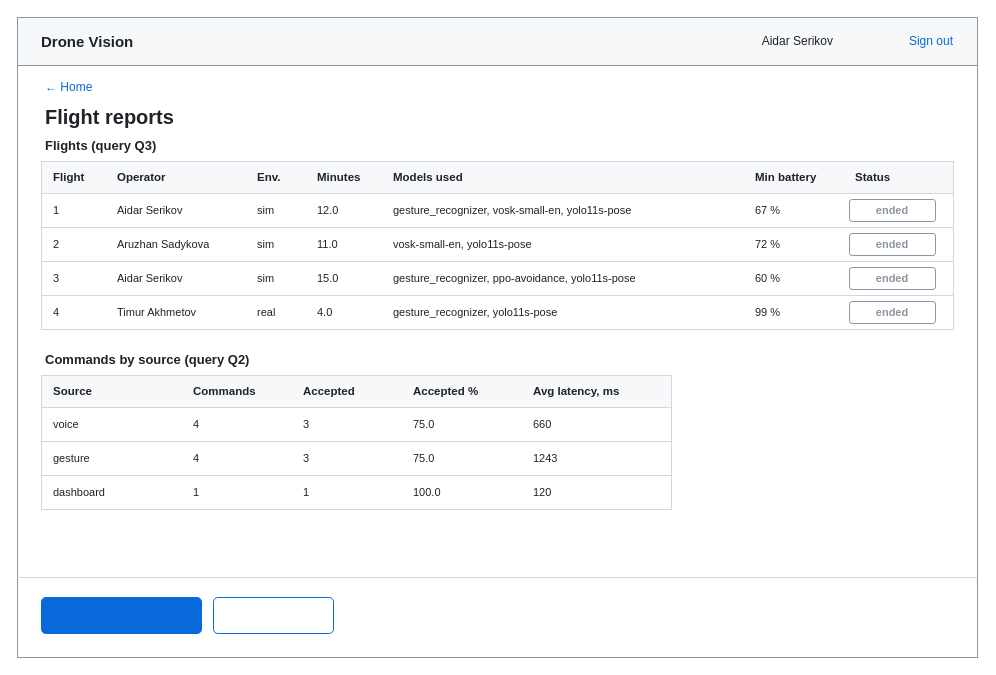
The diagram is 996 pixels wide and 675 high, and some of its shapes have lost their labels. Here are the shapes that lost their labels. From the top down, the box of each, then its label:
(40, 596, 202, 634): Export CSV
(212, 596, 334, 634): Back
